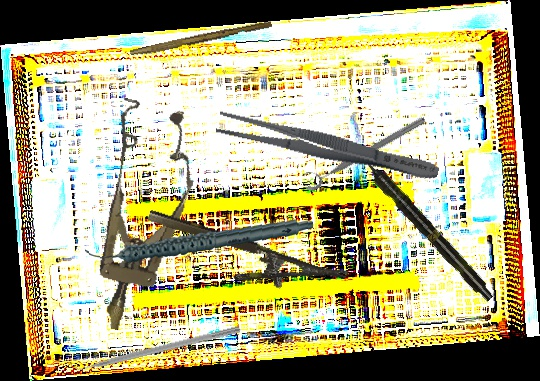Chopper: (63, 316, 242, 376)
Dressing Forceps: (214, 106, 442, 188)
Fixation Ring: (297, 106, 429, 195)
Handpiece: (353, 148, 498, 305), (83, 200, 314, 280)
Needle Holder: (138, 207, 349, 312)
Scalpel Handle: (129, 17, 273, 61)
Speculum: (69, 96, 209, 340)
